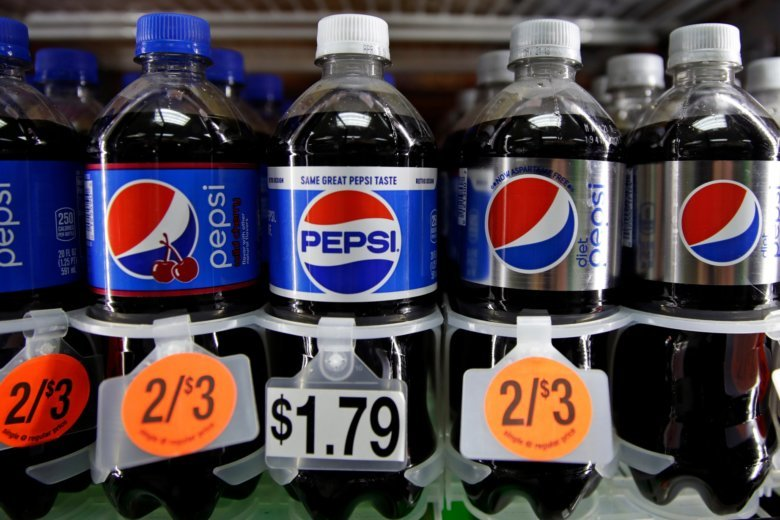pepsi: (292, 183, 400, 295), (296, 183, 400, 295), (102, 171, 199, 283), (99, 177, 199, 283), (482, 173, 577, 274), (677, 176, 761, 263)
